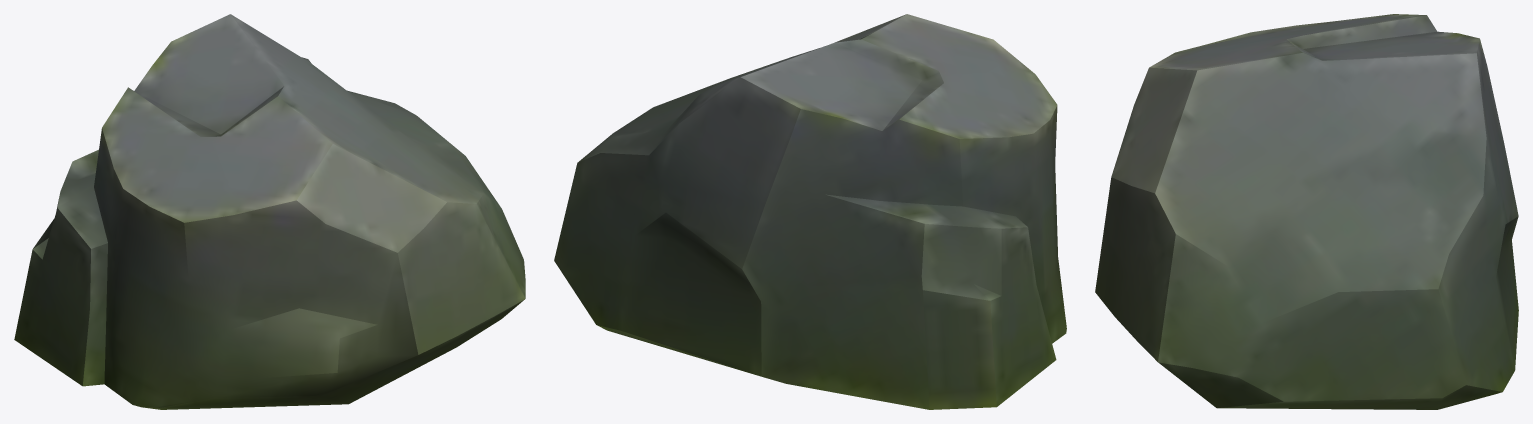
The model's file is rock_2.glb.
The picture shows the model from 3 angles, left to right: view 1: azimuth 30°, elevation 25°; view 2: azimuth 150°, elevation 25°; view 3: azimuth 270°, elevation 25°; orthographic projection. The views are drawn at different scales.
Visible parts, largest first — view 1: Rock_Medium_2; view 2: Rock_Medium_2; view 3: Rock_Medium_2.
Boxes of the visible parts, <box> form: Rock_Medium_2: <box>14,14,525,409</box>; Rock_Medium_2: <box>554,14,1066,409</box>; Rock_Medium_2: <box>1095,14,1518,409</box>.
Bounding box in the file's own units: 3.05 × 1.9 × 2.48.
Materials: 1 (1 with a texture image).
